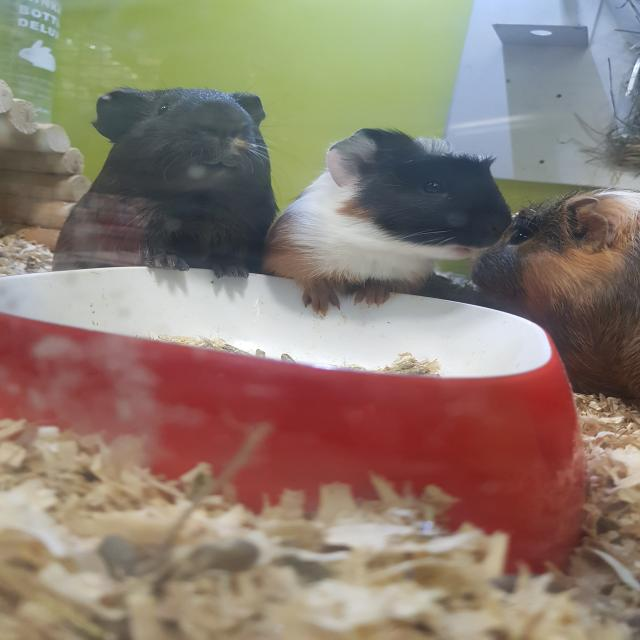guinea pig: (275, 124, 514, 318), (50, 86, 275, 280), (470, 180, 640, 420)
